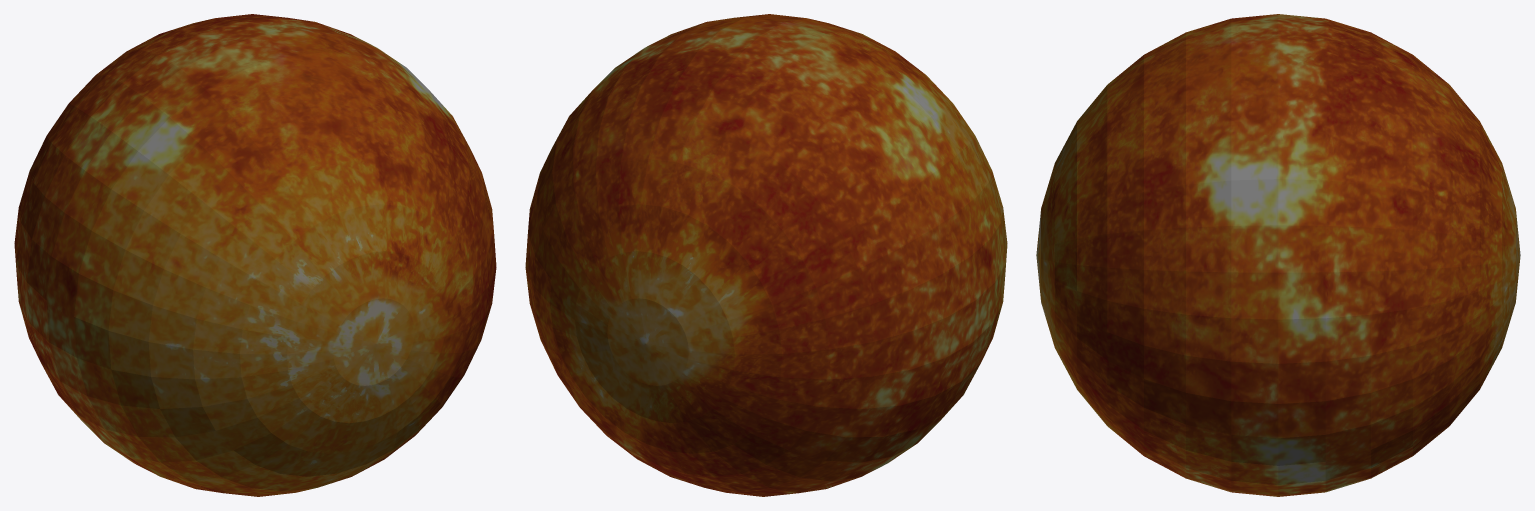
The model's file is sun-3d-model.glb.
3 views of the same model, side by side, from view 1: azimuth 30°, elevation 25°; view 2: azimuth 150°, elevation 25°; view 3: azimuth 270°, elevation 25° (orthographic).
Size of the model in its own units: 2 by 2 by 2.
Materials: 1 (1 with a texture image).
